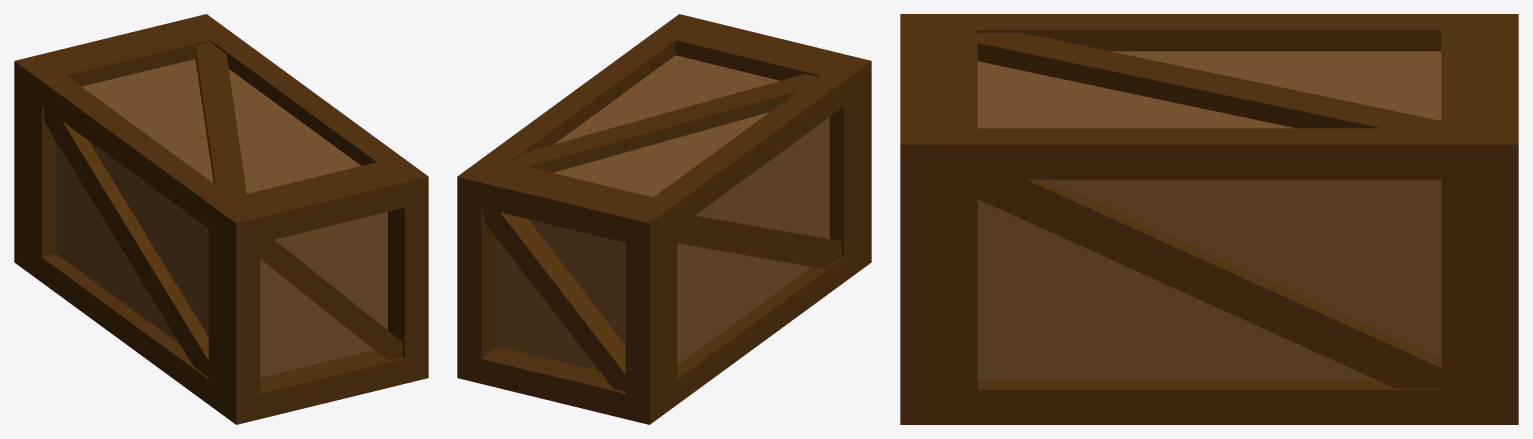
Rendered from cratelong.fbx.
The picture shows the model from 3 angles, left to right: view 1: azimuth 30°, elevation 25°; view 2: azimuth 150°, elevation 25°; view 3: azimuth 270°, elevation 25°; orthographic projection. The views are drawn at different scales.
Visible parts, largest first — view 1: Cube.003; view 2: Cube.003; view 3: Cube.003.
Part boxes in pixels (x1,y1,x2,y2): Cube.003: [14, 14, 428, 424]; Cube.003: [457, 14, 871, 424]; Cube.003: [900, 14, 1518, 424].
Bounding box in the file's own units: 200 × 200 × 400.
